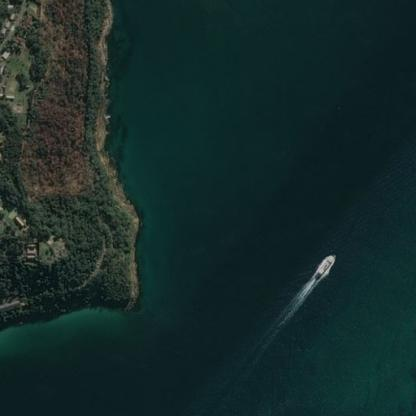ship: (304, 248, 346, 282)
